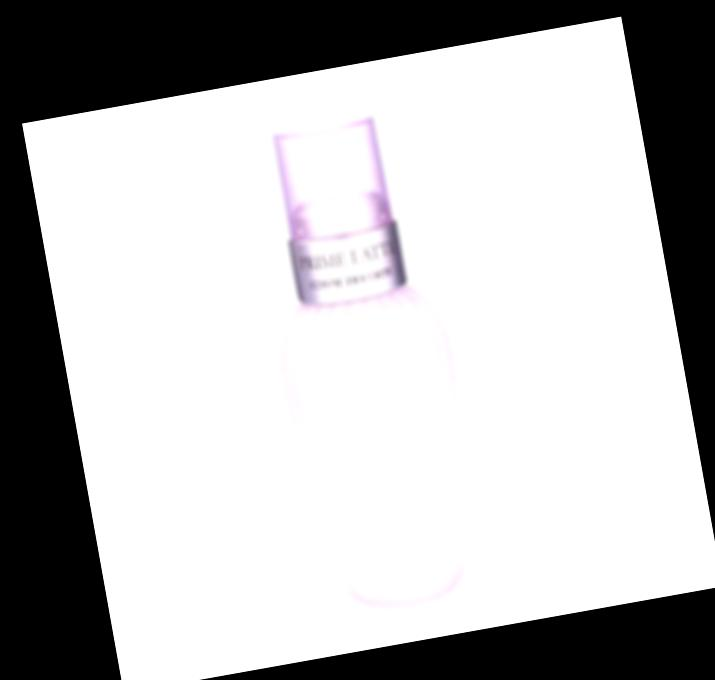cosmetic: (251, 104, 489, 621)
